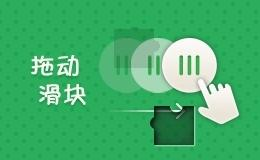target: (134, 86, 175, 125)
